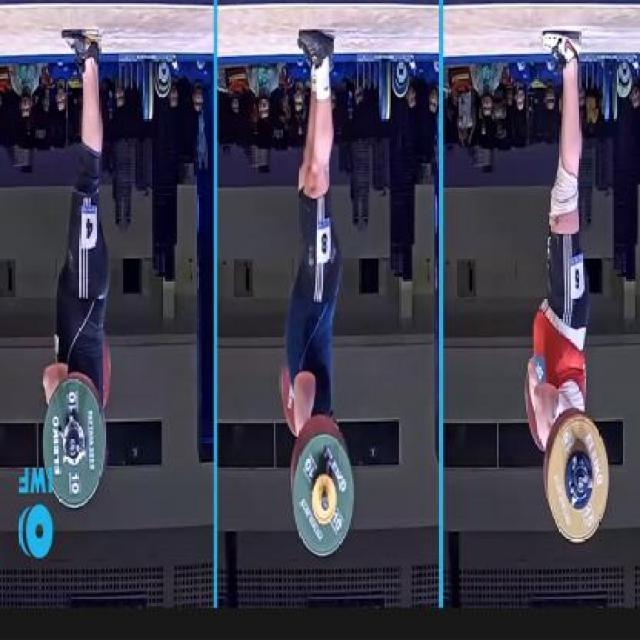Barbell: (573, 468, 589, 498), (66, 436, 79, 458), (320, 494, 331, 515)
